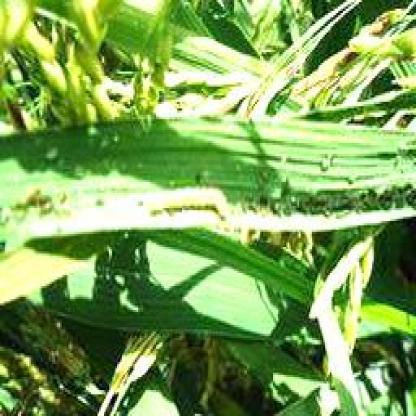leaf-folder: (124, 174, 237, 231)
